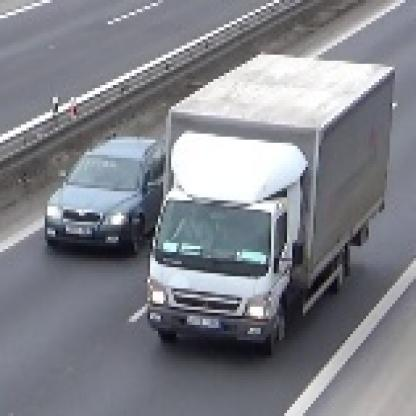truck: (143, 47, 393, 347)
